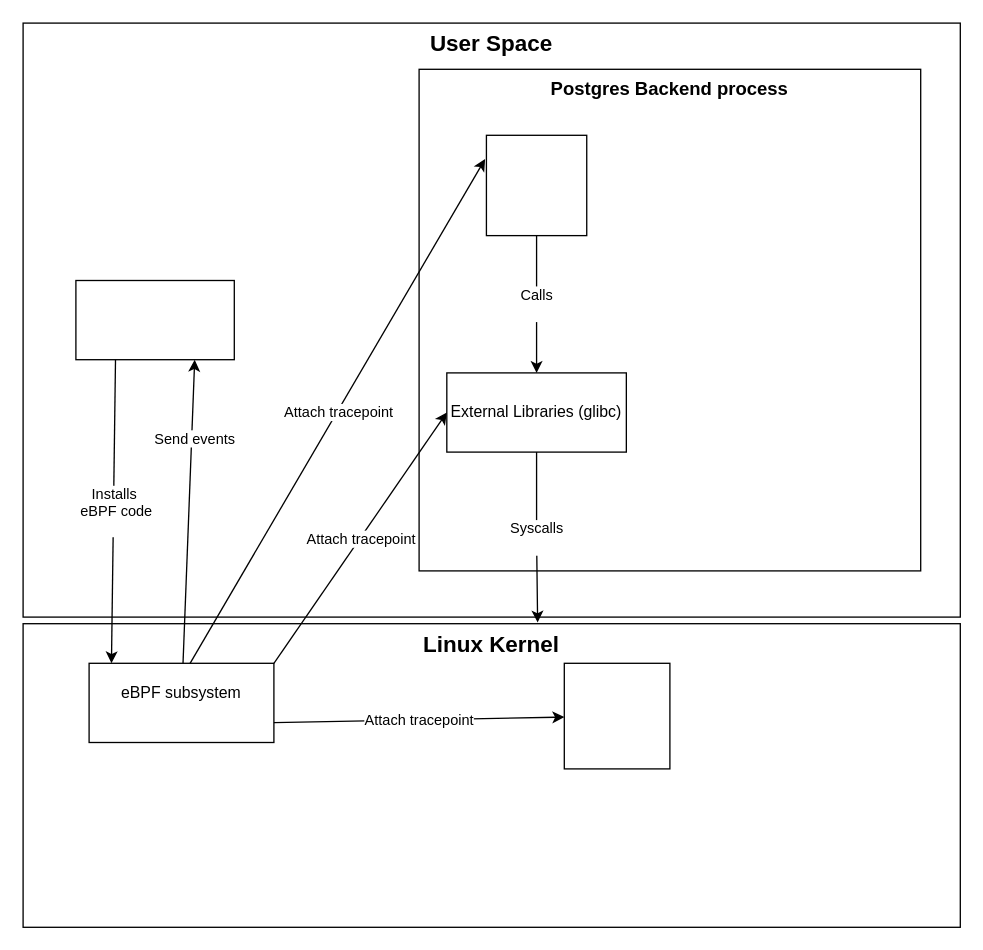
Image size: 983x950. Some labels were removed from this diagram. Each missing label, with the centre of its shape:
Kernel static tracepoints: the point at 616,715
PGTracer: the point at 154,319
Postgres code: the point at 536,185
